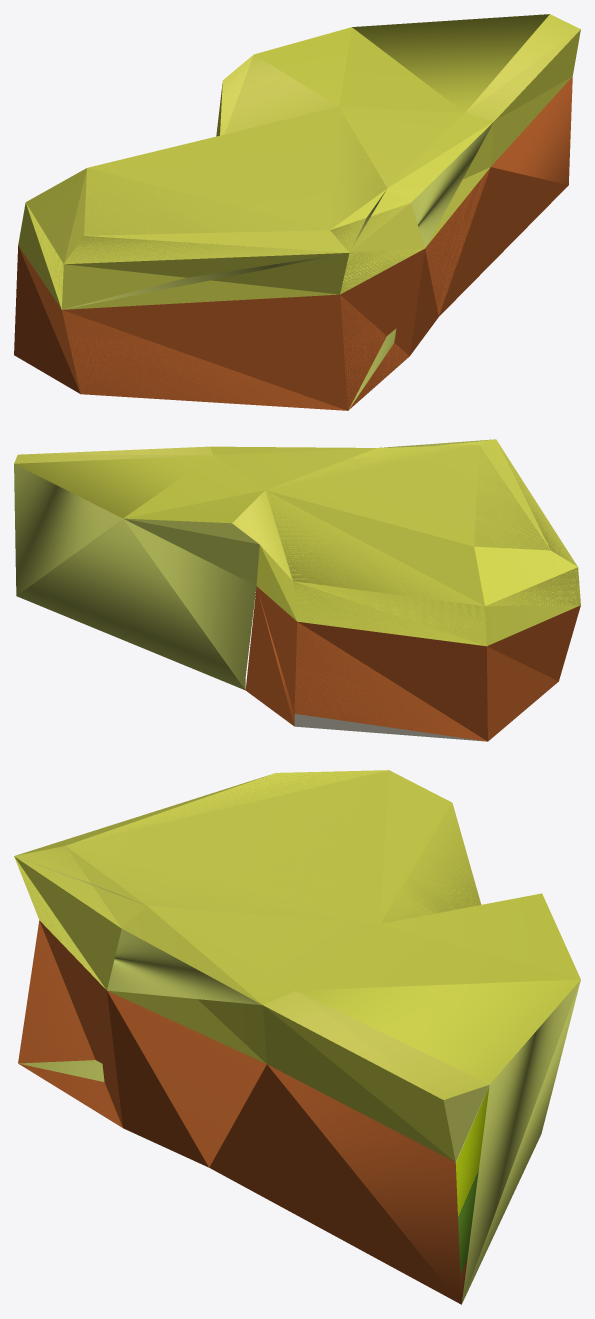
Rendered from europe_Spain.glb.
The picture shows the model from 3 angles, top to bottom: view 1: azimuth 30°, elevation 25°; view 2: azimuth 150°, elevation 25°; view 3: azimuth 270°, elevation 25°; orthographic projection. The views are drawn at different scales.
Parts seen in each view (by area): view 1: europe_Spain; view 2: europe_Spain; view 3: europe_Spain.
Part boxes in pixels (x1=…): europe_Spain: x1=14, y1=14, x2=580, y2=410; europe_Spain: x1=14, y1=439, x2=580, y2=741; europe_Spain: x1=14, y1=770, x2=580, y2=1304.
Bounding box in the file's own units: 1.39 × 0.5361 × 0.889.
2 materials, 1 textured.
